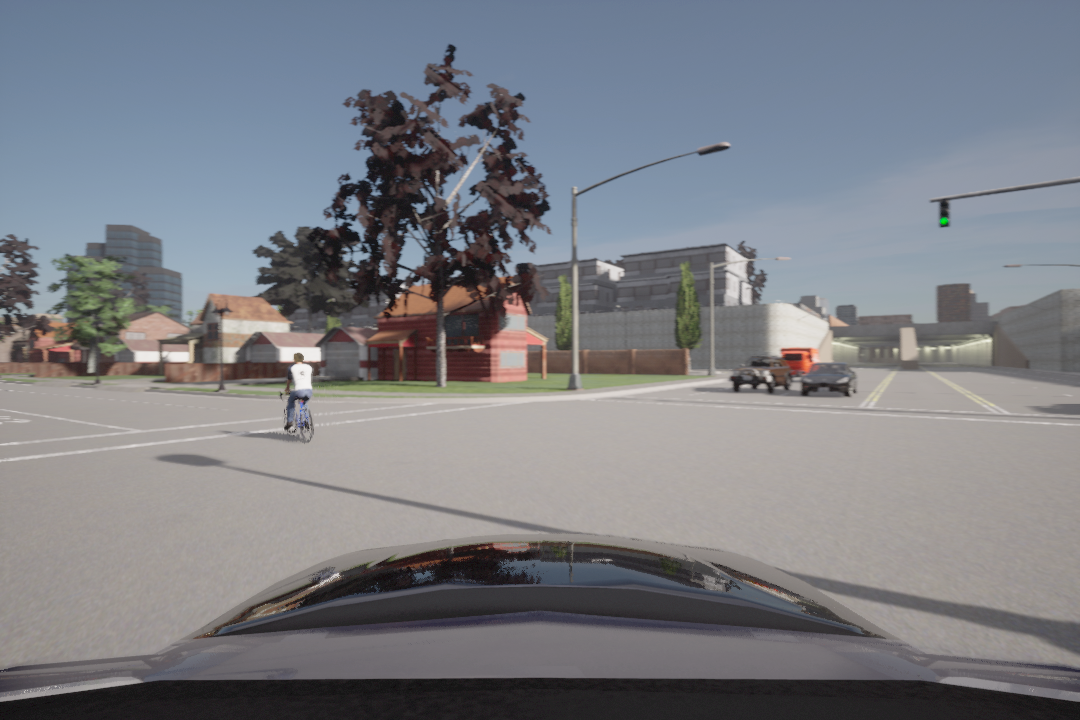TrafficLight: (934, 196, 954, 231)
